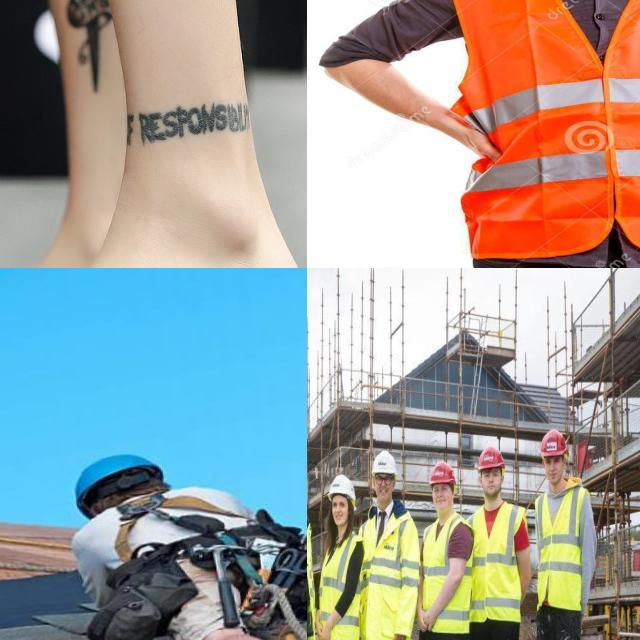Harness: (108, 493, 262, 634)
Sandals: (0, 206, 284, 268)
face_nomask: (482, 468, 504, 501), (374, 474, 396, 506), (546, 455, 564, 493), (431, 486, 455, 514), (332, 493, 351, 525)
glasses: (373, 474, 395, 488)
hand_noglove: (446, 91, 504, 168), (415, 606, 441, 638), (314, 610, 337, 640)
head_helmet: (329, 473, 356, 502), (540, 430, 567, 458), (370, 449, 396, 477), (477, 446, 503, 472), (430, 461, 455, 484)
person: (402, 0, 640, 268), (532, 429, 595, 640), (467, 445, 530, 640), (363, 451, 417, 640), (420, 462, 471, 640), (318, 472, 361, 640)
vest: (436, 0, 640, 243), (467, 497, 526, 628), (533, 477, 587, 615), (358, 507, 420, 609), (422, 513, 472, 637), (320, 527, 360, 640)
